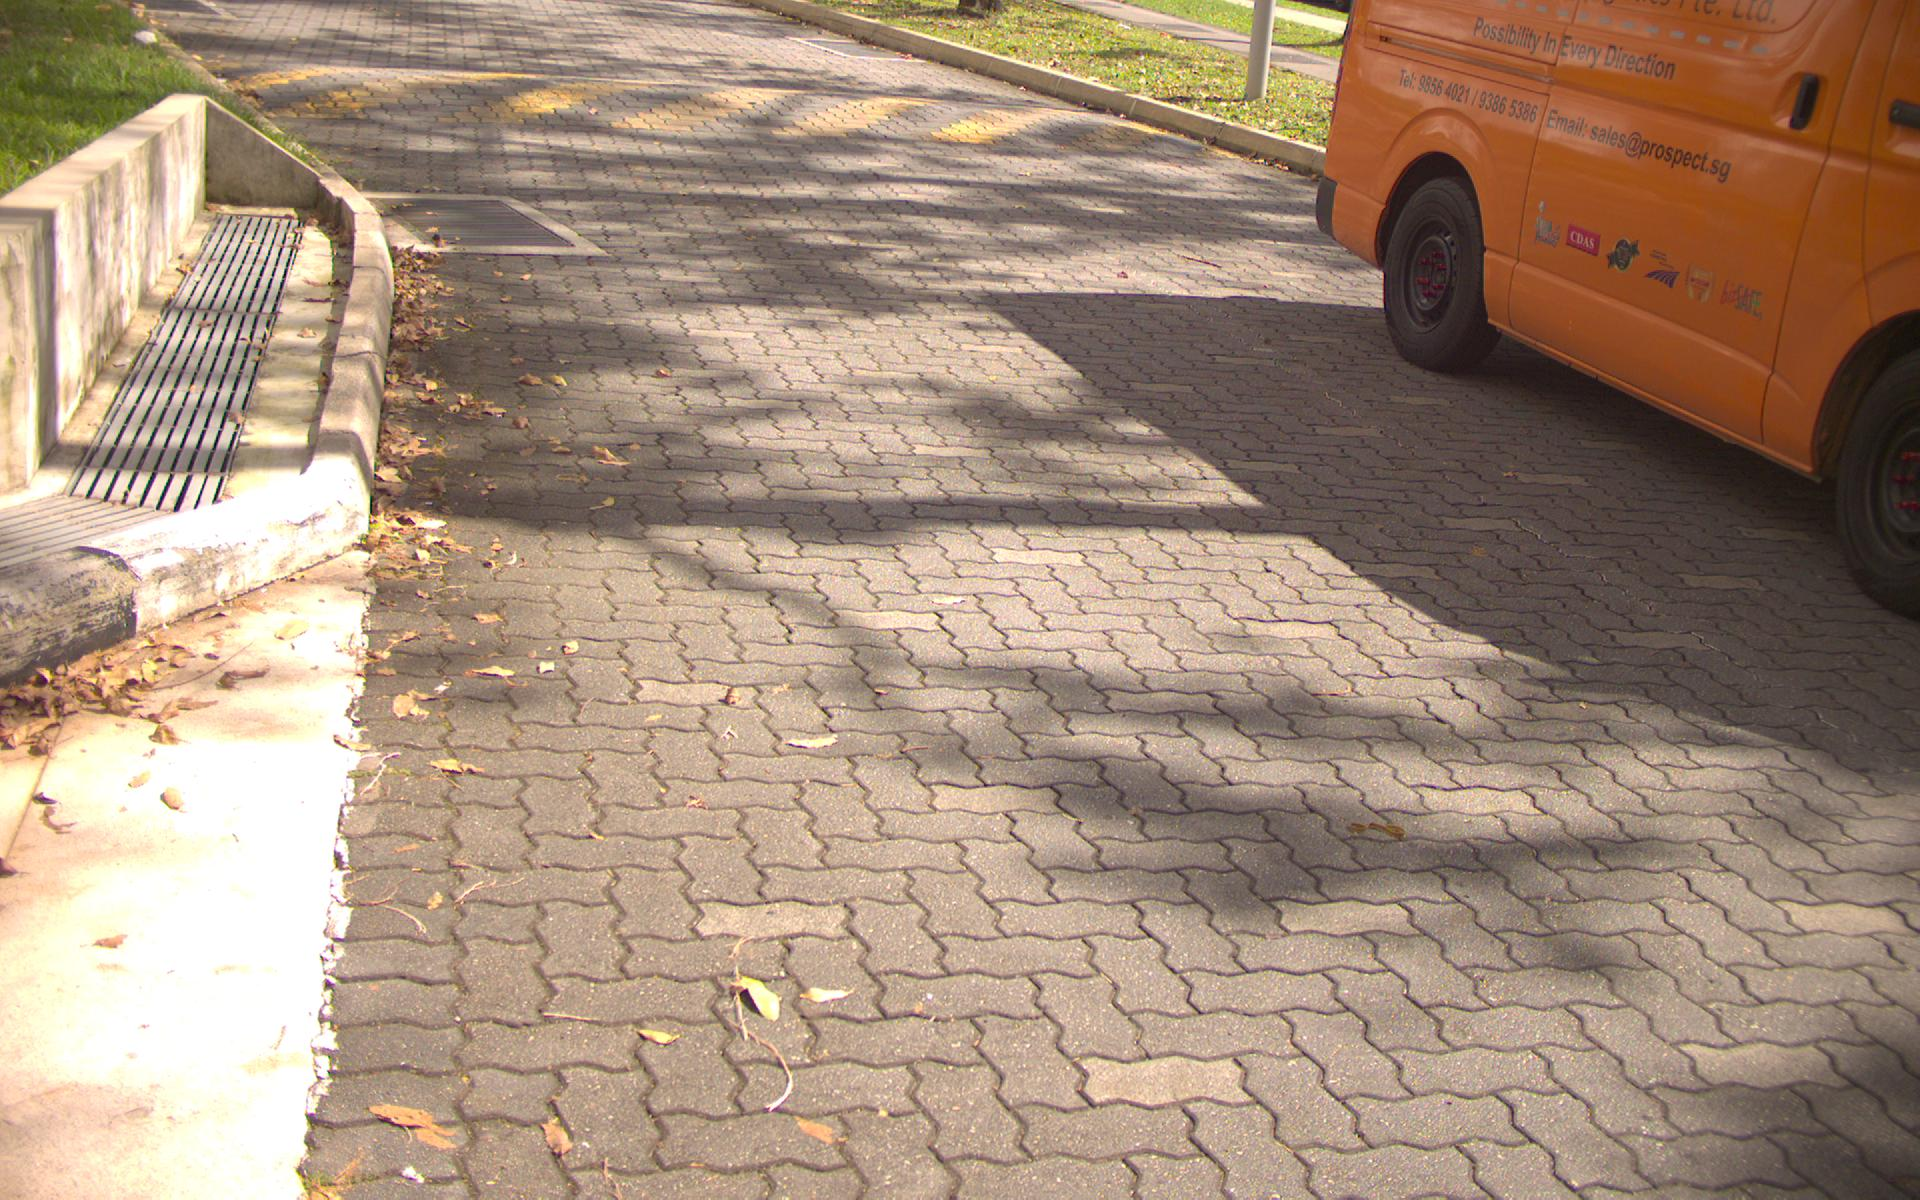curb_grill_low: (75, 214, 301, 496), (377, 191, 587, 252)
road_curb_medium: (1, 259, 763, 1182)
